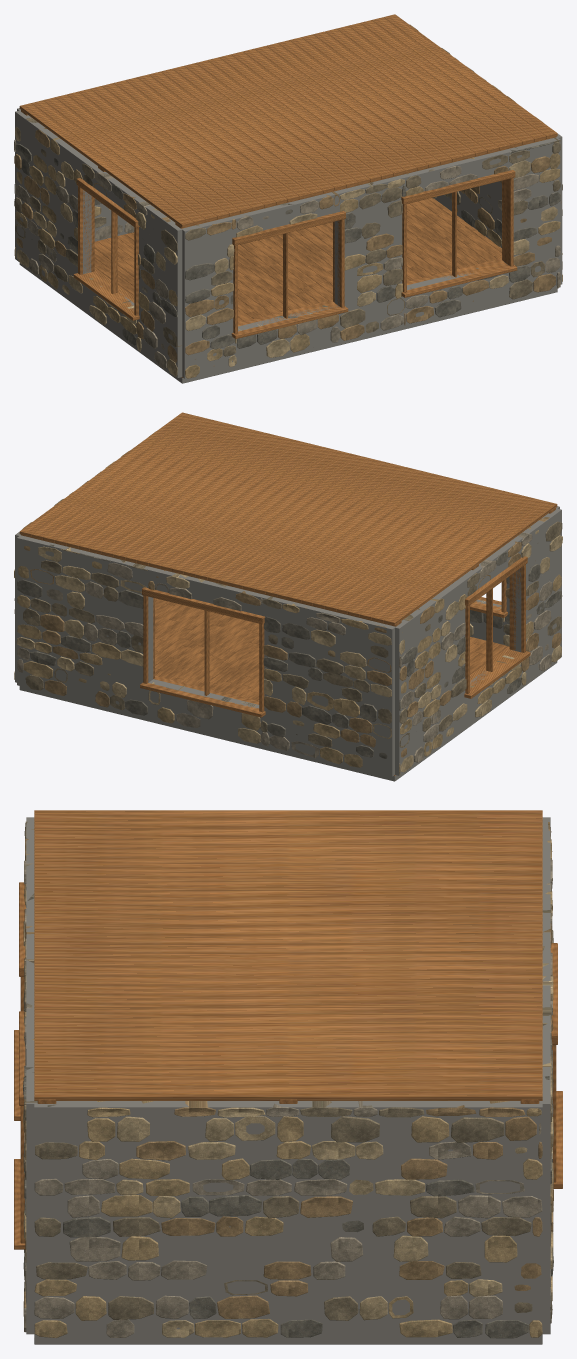
File: stone-room.glb
The picture shows the model from 3 angles, top to bottom: view 1: azimuth 30°, elevation 25°; view 2: azimuth 150°, elevation 25°; view 3: azimuth 270°, elevation 25°; orthographic projection. The views are drawn at different scales.
Visible parts, largest first — view 1: Architecture, Ceiling; view 2: Architecture, Ceiling; view 3: Ceiling, Architecture.
Boxes of the visible parts, x1,y1,x2,y2 form: Architecture: [14, 24, 562, 383]; Ceiling: [19, 14, 557, 228]; Architecture: [14, 431, 562, 781]; Ceiling: [19, 412, 557, 626]; Ceiling: [34, 810, 542, 1103]; Architecture: [14, 817, 562, 1344].
Size of the model in its own units: 8.38 by 3.24 by 6.48.
10 materials, 9 textured.
